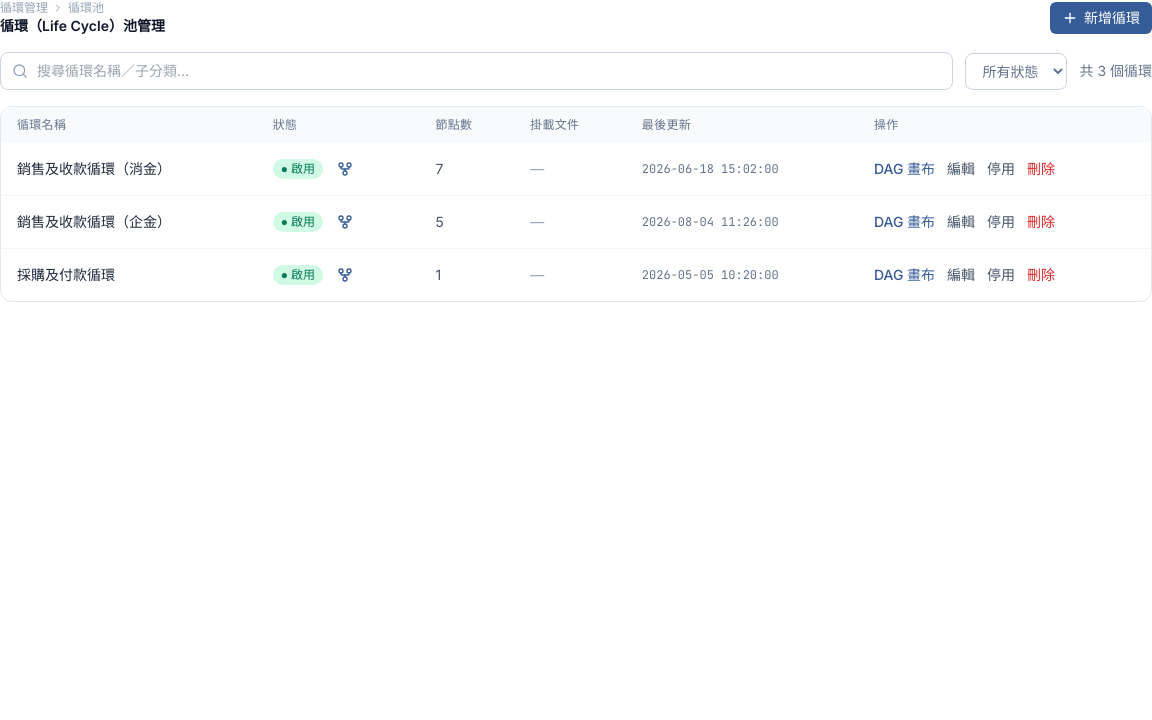
Scenario: LifecycleListPage — F040 建立 modal 之子分類欄位（AC-02／F007 AC-S1／AC-S2） › §6.19(d) 名稱為空時不送出、且不顯示任何唯一性錯誤（順序 ① 優先）
This screenshot has width=1152, height=720.
Expected: the text "銷售及收款循環（消金）" is shown, [17,160,171,177]
Click the button "新增循環". click: (1101, 18)
box: [1050,2,1151,34]
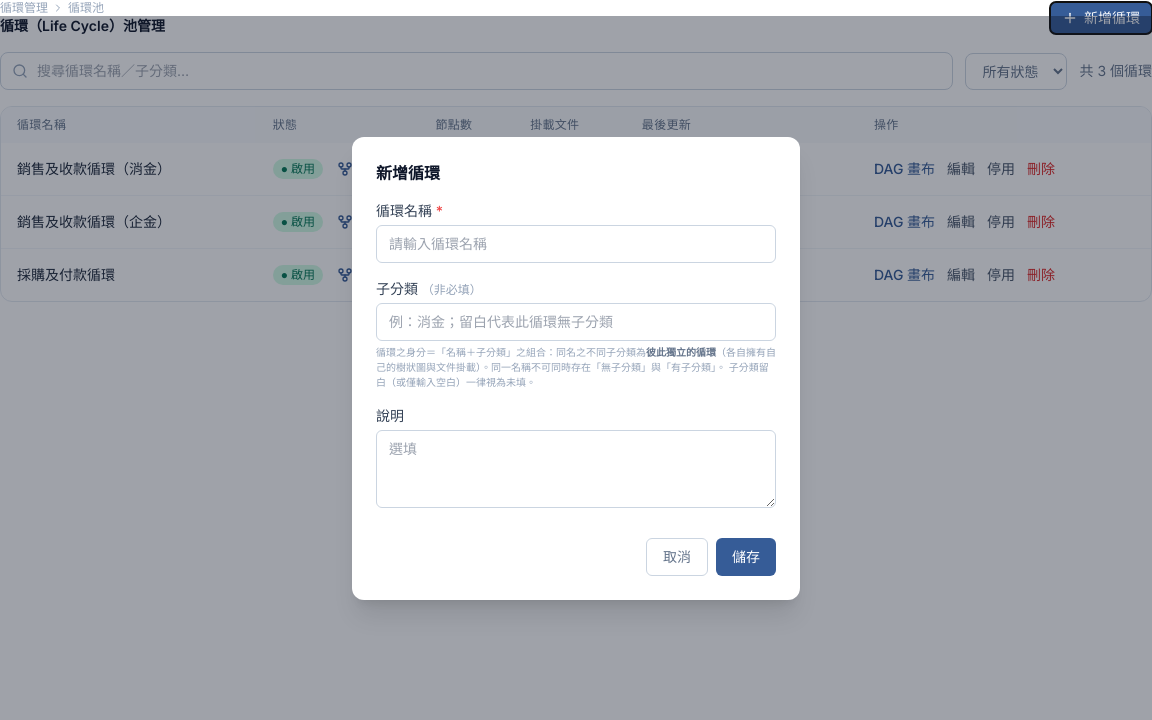
Type "消金" into the field labelled "子分類 （非必填）". click: (576, 322)
box: [376,302,776,340]
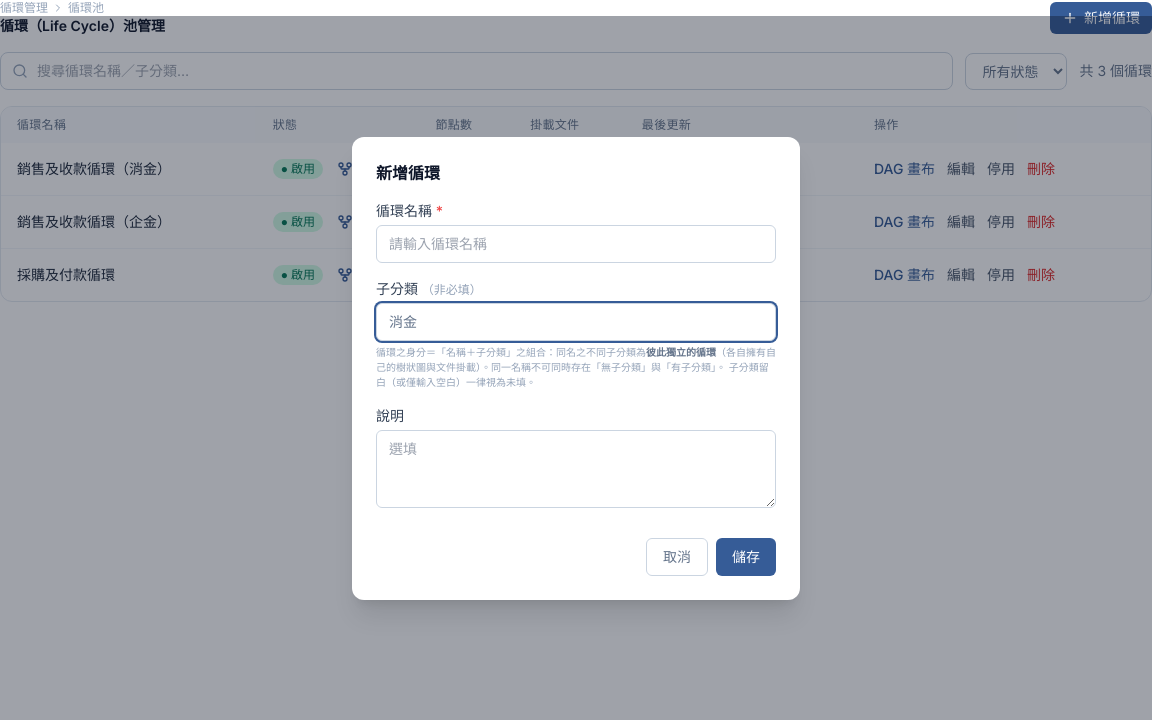
Click the button "儲存". click: (746, 556)
box: [716,538,776,576]
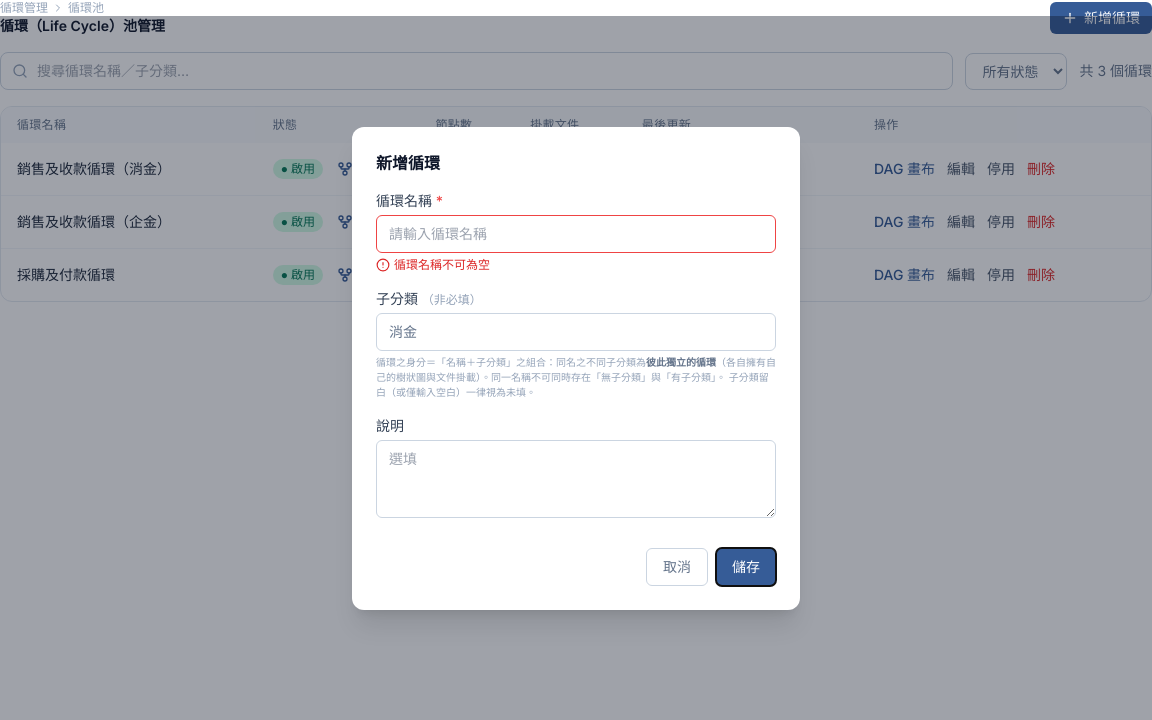
Expected: the text "循環名稱不可為空" is shown, [376,256,490,272]
